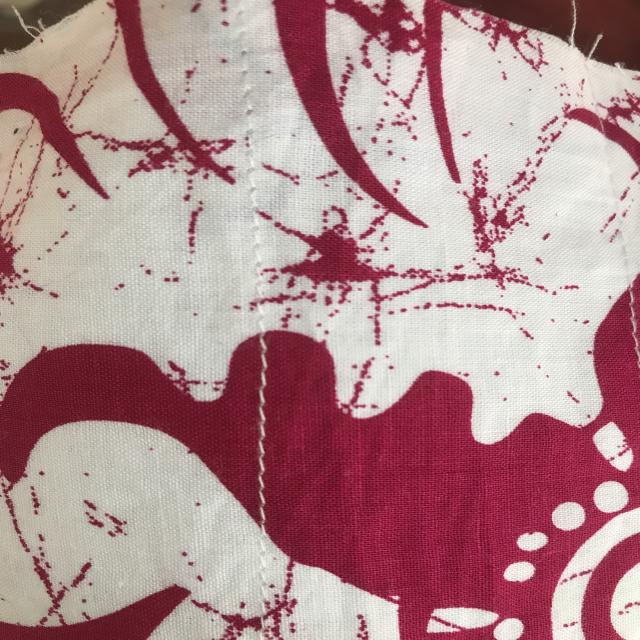good: (246, 357, 282, 502)
